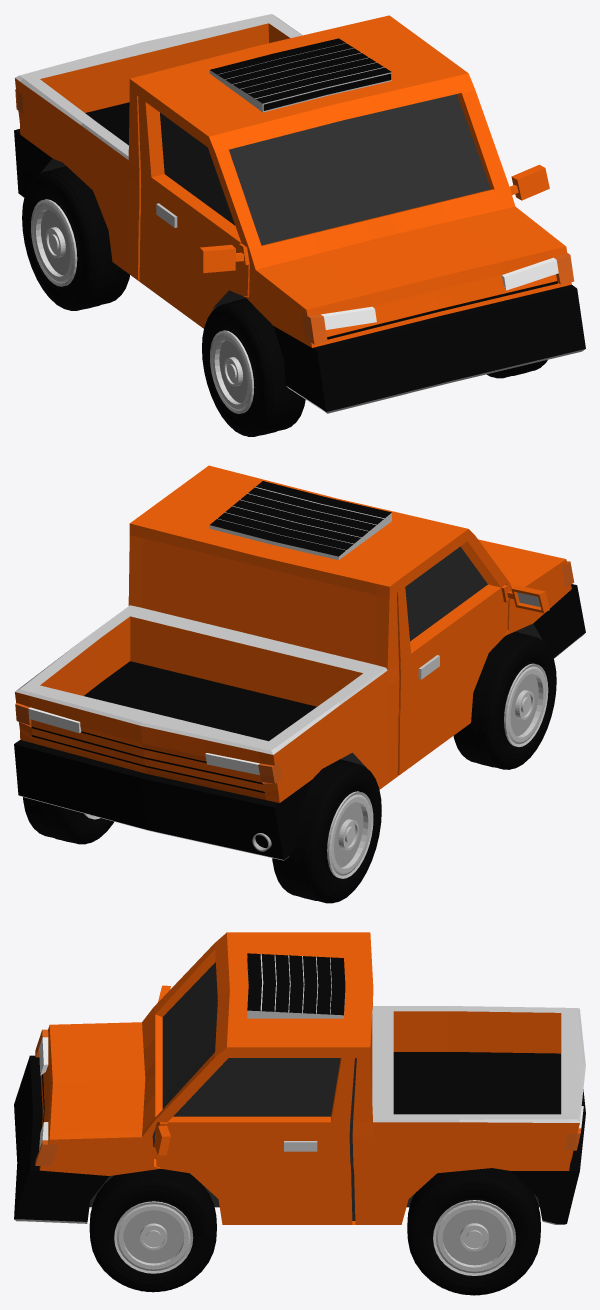
File: CR-CAR-12.fbx
The picture shows the model from 3 angles, top to bottom: view 1: azimuth 30°, elevation 25°; view 2: azimuth 150°, elevation 25°; view 3: azimuth 270°, elevation 25°; orthographic projection. The views are drawn at different scales.
Visible parts, largest first — view 1: BODY, WHEEL.004, WHEEL.001; view 2: BODY, WHEEL.004, WHEEL.001, WHEEL.002; view 3: BODY, WHEEL.002, WHEEL.003.
Boxes of the visible parts, <box> form: BODY: <box>14,14,585,413</box>; WHEEL.004: <box>22,166,129,310</box>; WHEEL.001: <box>202,298,305,436</box>; BODY: <box>14,465,585,860</box>; WHEEL.004: <box>272,759,381,903</box>; WHEEL.001: <box>453,631,556,769</box>; WHEEL.002: <box>23,797,114,844</box>; BODY: <box>14,932,585,1224</box>; WHEEL.002: <box>407,1168,540,1295</box>; WHEEL.003: <box>89,1168,216,1292</box>.
Size of the model in its own units: 131 by 100 by 206.
